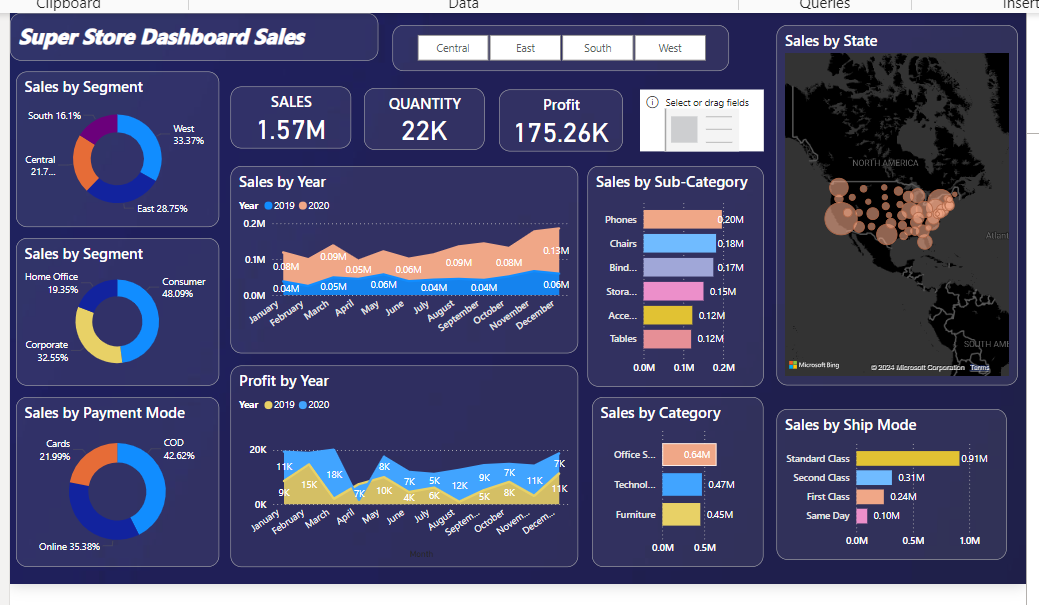

The dashboard page shown, as its layout file describes it:
{"tool":"powerbi","page":{"name":"Page 1","canvas":[1280,720],"ordinal":0},"visuals":[{"type":"barChart","title":"Sales by Category","fields":{"Y":["Sum(SuperStore_Sales_Dataset.Sales)"],"Category":["SuperStore_Sales_Dataset.Category"]},"box":[734,484,216,214],"z":0},{"type":"barChart","title":"Sales by Sub-Category","fields":{"Y":["Sum(SuperStore_Sales_Dataset.Sales)"],"Category":["SuperStore_Sales_Dataset.Sub-Category"]},"box":[728,192,222,278],"z":1000},{"type":"barChart","title":"Sales by Ship Mode","fields":{"Y":["Sum(SuperStore_Sales_Dataset.Sales)"],"Category":["SuperStore_Sales_Dataset.Ship Mode"]},"box":[966,498,290,190],"z":2000},{"type":"stackedAreaChart","title":"Sales by Year ","fields":{"Y":["Sum(SuperStore_Sales_Dataset.Sales)"],"Category":["SuperStore_Sales_Dataset.Order Date.Variation.Date Hierarchy.Month"],"Series":["SuperStore_Sales_Dataset.Order Date.Variation.Date Hierarchy.Year"]},"box":[278,192,438,236],"z":3000},{"type":"stackedAreaChart","title":"Profit by Year","fields":{"Category":["SuperStore_Sales_Dataset.Order Date.Variation.Date Hierarchy.Month"],"Series":["SuperStore_Sales_Dataset.Order Date.Variation.Date Hierarchy.Year"],"Y":["Sum(SuperStore_Sales_Dataset.Profit)"]},"box":[278,444,438,254],"z":4000},{"type":"map","title":"Sales by State","fields":{"Category":["SuperStore_Sales_Dataset.State"],"Size":["Sum(SuperStore_Sales_Dataset.Sales)"]},"box":[966,16,304,454],"z":5000},{"type":"donutChart","title":"Sales by Segment","fields":{"Category":["SuperStore_Sales_Dataset.Segment"],"Y":["Sum(SuperStore_Sales_Dataset.Sales)"]},"box":[8,284,256,186],"z":6000},{"type":"donutChart","title":"Sales by Payment Mode","fields":{"Y":["Sum(SuperStore_Sales_Dataset.Sales)"],"Category":["SuperStore_Sales_Dataset.Payment Mode"]},"box":[8,484,256,214],"z":7000},{"type":"slicer","fields":{"Values":["SuperStore_Sales_Dataset.Region"]},"box":[482,16,424,58],"z":8000},{"type":"textbox","box":[0,0,464,60],"z":9000},{"type":"card","title":"SALES","fields":{"Values":["Sum(SuperStore_Sales_Dataset.Sales)"]},"box":[278,92,152,78],"z":10000},{"type":"card","title":"QUANTITY","fields":{"Values":["Sum(SuperStore_Sales_Dataset.Quantity)"]},"box":[446,94,152,78],"z":11000},{"type":"card","title":"Profit","fields":{"Values":["Sum(SuperStore_Sales_Dataset.Profit)"]},"box":[616,96,156,78],"z":12000},{"type":"donutChart","title":"Sales by Segment","fields":{"Y":["Sum(SuperStore_Sales_Dataset.Sales)"],"Category":["SuperStore_Sales_Dataset.Region"]},"box":[8,74,256,196],"z":13000},{"type":"card","title":"Profit","box":[794,96,156,78],"z":14000}]}

Visuals, with their boxes on the page's 1280x720 design canvas (x1, y1, x2, y2). These are canvas units, not pixel positions in the 1039x605 screenshot, which may show the page scaled, cropped or inside an application window:
"Sales by Category" barChart: (x1=734, y1=484, x2=950, y2=698)
"Sales by Sub-Category" barChart: (x1=728, y1=192, x2=950, y2=470)
"Sales by Ship Mode" barChart: (x1=966, y1=498, x2=1256, y2=688)
"Sales by Year " stackedAreaChart: (x1=278, y1=192, x2=716, y2=428)
"Profit by Year" stackedAreaChart: (x1=278, y1=444, x2=716, y2=698)
"Sales by State" map: (x1=966, y1=16, x2=1270, y2=470)
"Sales by Segment" donutChart: (x1=8, y1=284, x2=264, y2=470)
"Sales by Payment Mode" donutChart: (x1=8, y1=484, x2=264, y2=698)
slicer - SuperStore_Sales_Dataset.Region: (x1=482, y1=16, x2=906, y2=74)
textbox: (x1=0, y1=0, x2=464, y2=60)
"SALES" card: (x1=278, y1=92, x2=430, y2=170)
"QUANTITY" card: (x1=446, y1=94, x2=598, y2=172)
"Profit" card: (x1=616, y1=96, x2=772, y2=174)
"Sales by Segment" donutChart: (x1=8, y1=74, x2=264, y2=270)
"Profit" card: (x1=794, y1=96, x2=950, y2=174)
